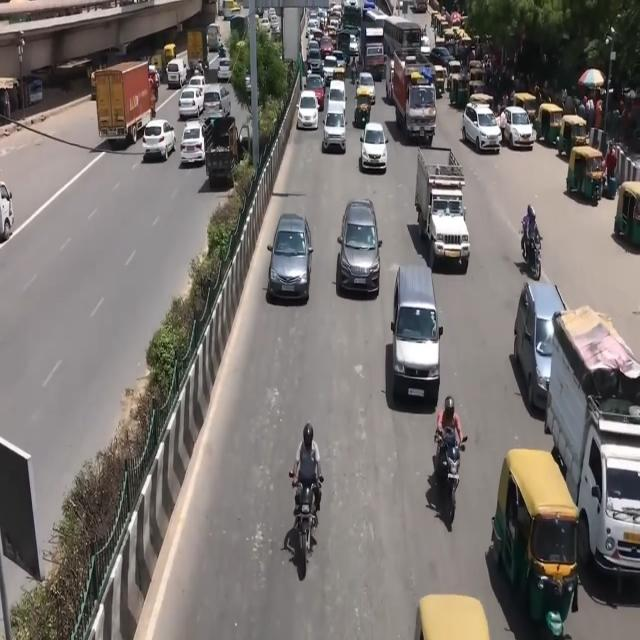auto: (492, 446, 580, 629), (566, 144, 606, 203), (614, 181, 640, 247), (557, 114, 589, 160), (535, 102, 564, 148), (448, 67, 469, 107), (353, 90, 372, 129), (432, 64, 448, 97), (468, 79, 485, 103), (164, 43, 176, 70)
bike-auto: (287, 403, 323, 574), (430, 396, 467, 538), (291, 424, 322, 515), (522, 202, 542, 262)
